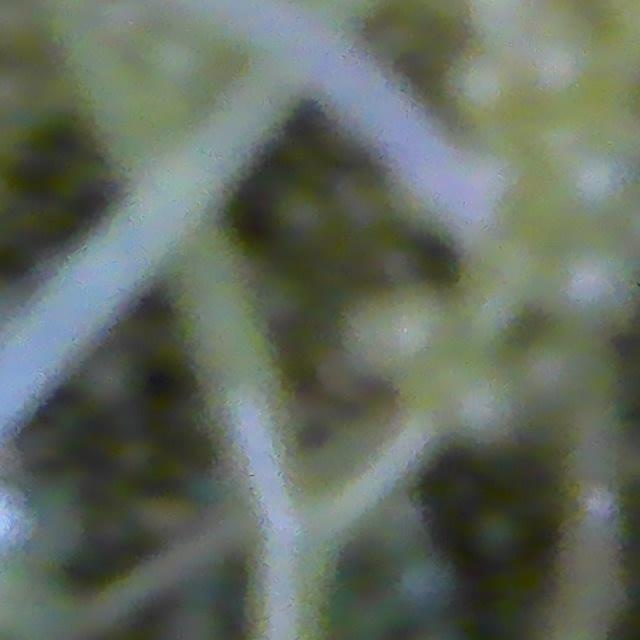SeaGrape: (355, 284, 447, 376), (542, 253, 640, 330), (513, 4, 605, 83), (439, 363, 522, 450), (451, 50, 526, 138), (558, 144, 634, 219), (513, 338, 580, 409), (393, 555, 460, 620), (469, 508, 525, 563)
